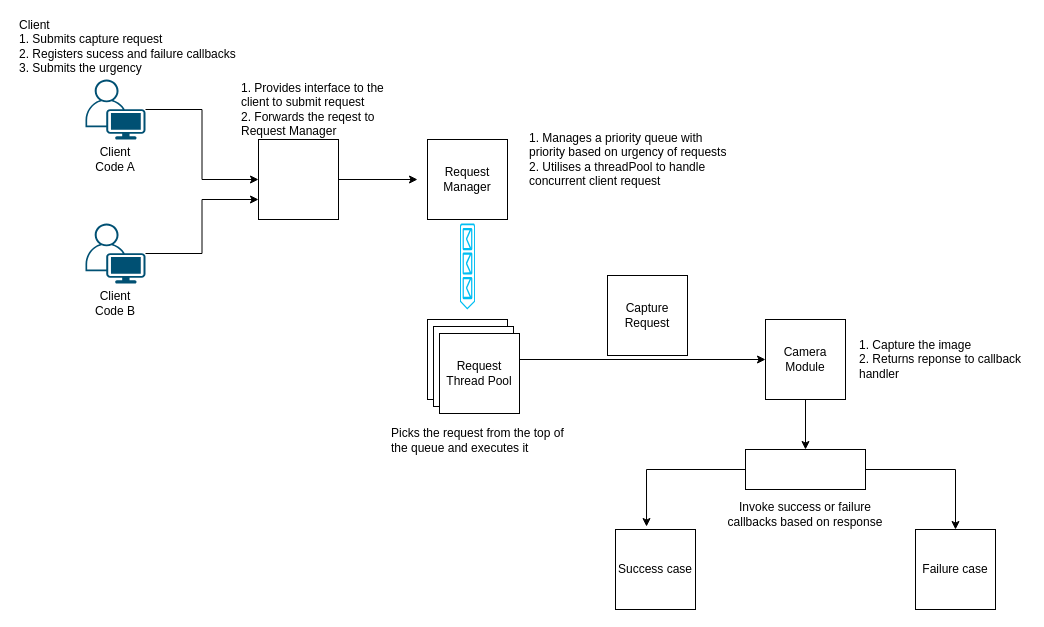
This 1044x627 diagram has some shape labels left out. Each missing label, with the box of its shape:
CallbackHandler: (744, 448, 866, 490)
Camera System Interface: (258, 138, 338, 220)
